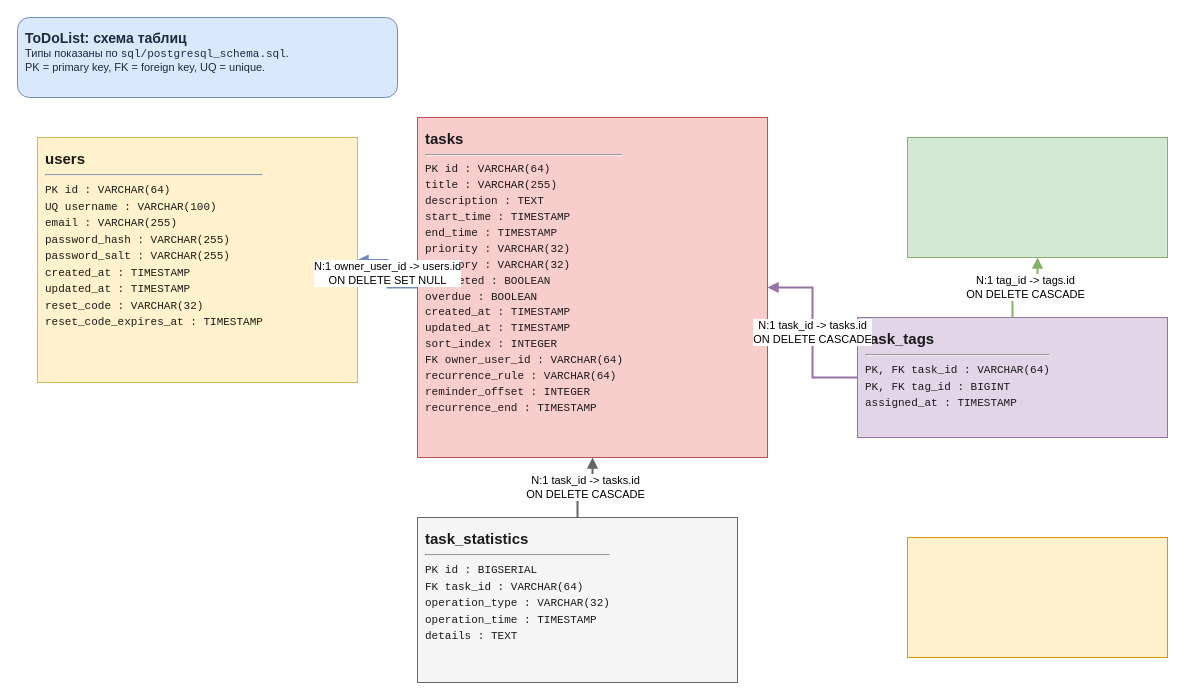
The diagram is 1185 pixels wide and 700 high, and some of its shapes have lost their labels. Each missing label, with the centre of its shape:
"app_settings PK key : VARCHAR(128) value : TEXT updated_at : TIMESTAMP" goes at (1037,597).
"tags PK id : BIGSERIAL UQ name : VARCHAR(128) color : VARCHAR(16)" goes at (1037,197).
